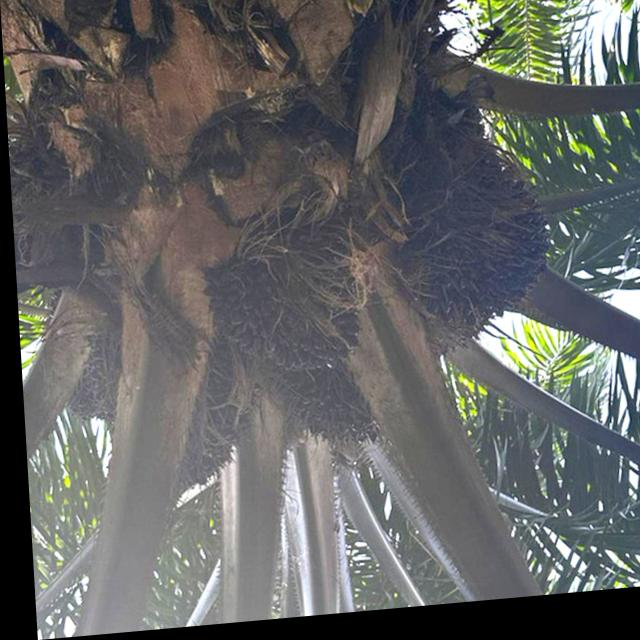almost: (399, 119, 559, 363), (204, 223, 361, 395), (101, 324, 247, 508), (281, 366, 383, 463)
